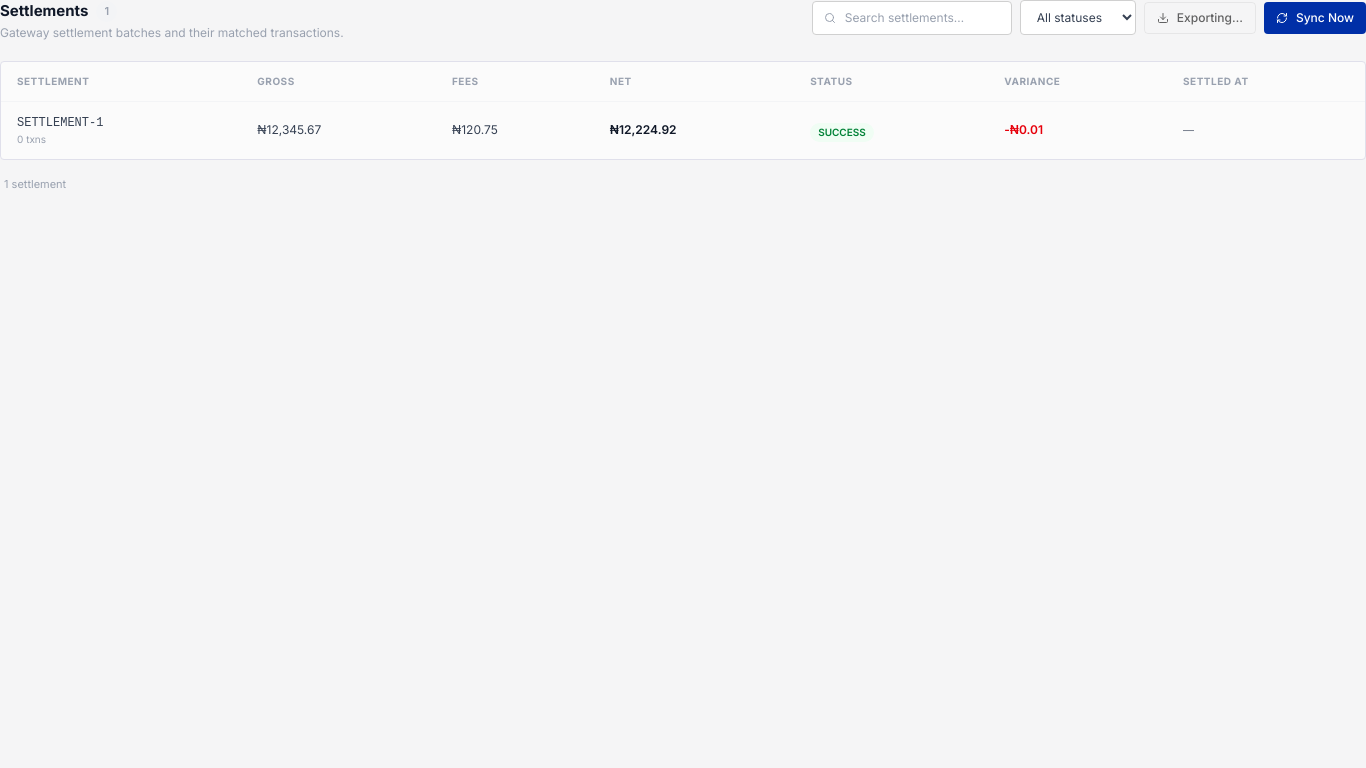
Test: platform-admin amount displays › shows settlement totals, fees, variances and linked transaction amounts as returned
Expected: the text "₦12,345.67" is shown, [241, 101, 436, 158]
Expected: the text "₦120.75" is shown, [436, 101, 594, 158]
Click the text "SETTLEMENT-1" at (60, 122), box [1, 101, 1365, 158]
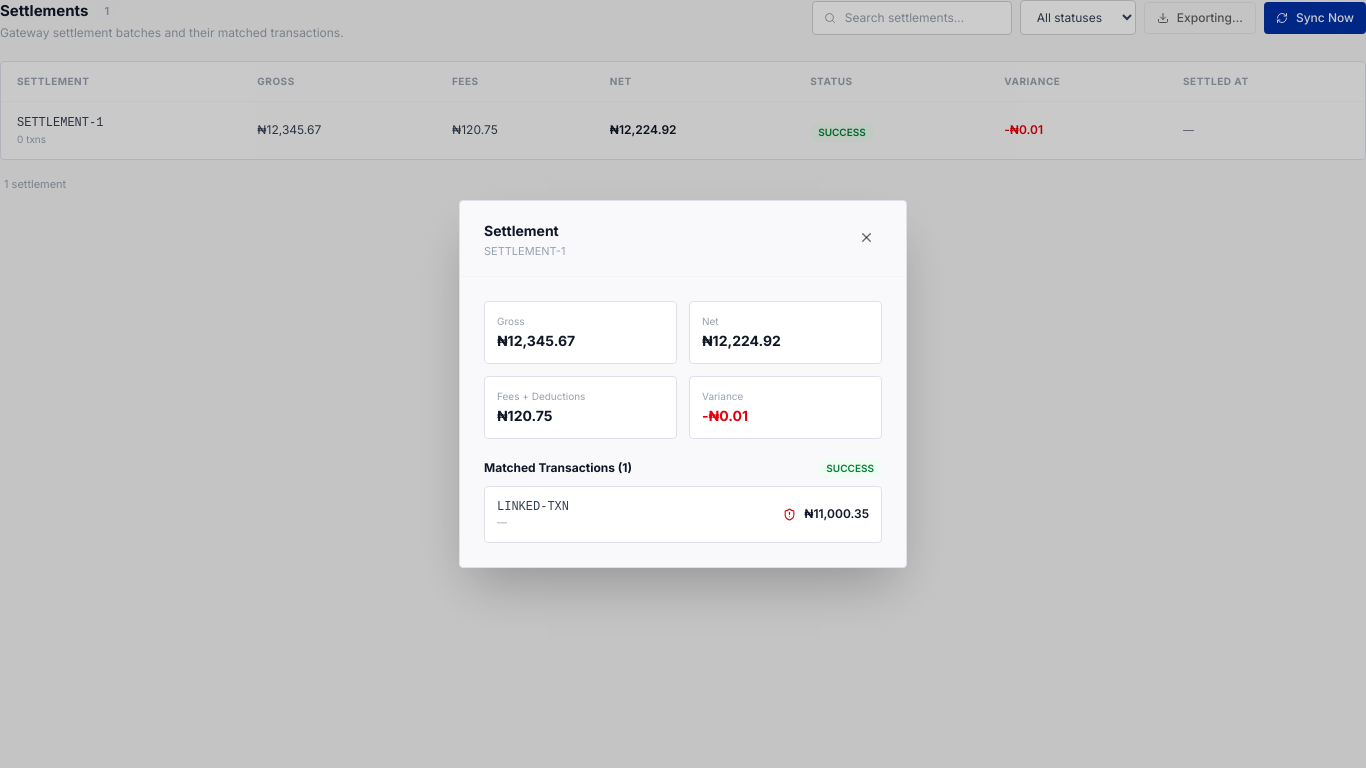
Expected: the text "₦120.75" is shown 2 times, [436, 101, 594, 158]; [497, 407, 552, 424]
Expected: the text "₦11,000.35" is shown, [804, 506, 869, 522]
